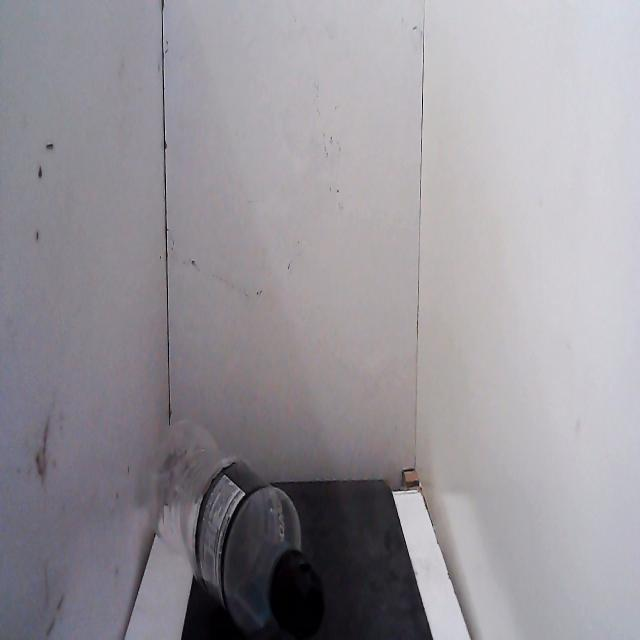plastico: (138, 407, 330, 640)
